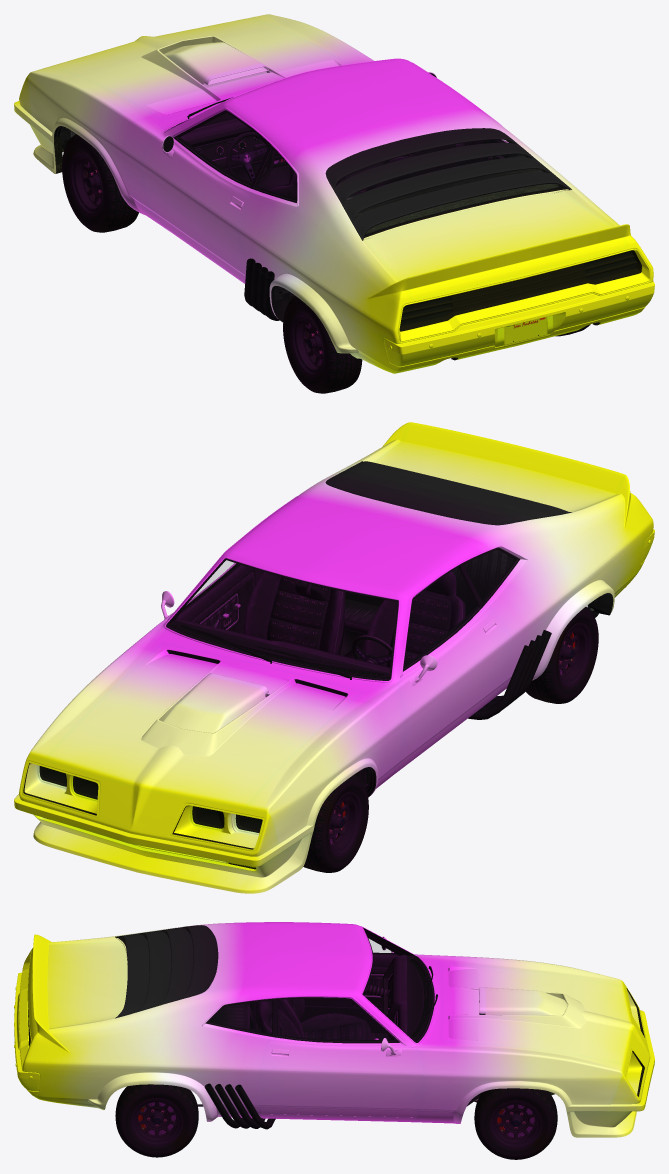
Rendered from imperator.glb.
The picture shows the model from 3 angles, top to bottom: view 1: azimuth 30°, elevation 25°; view 2: azimuth 150°, elevation 25°; view 3: azimuth 270°, elevation 25°; orthographic projection. The views are drawn at different scales.
Visible parts, largest first — view 1: bodyshell, boot, misc_b, bonnet, door_dside_f, chassis, bumper_r, wheel_lf, wheel_lr, window_lf, misc_l, windscreen_r (+6 smaller); view 2: bodyshell, bonnet, chassis, bumper_f, boot, door_dside_f, misc_b, misc_j, wheel_lf, wheel_lr, window_lf, misc_l (+4 smaller); view 3: bodyshell, bonnet, door_pside_f, chassis, boot, misc_b, wheel_rr, wheel_rf, window_rf, bumper_f, misc_l, door_dside_f (+4 smaller).
Boxes of the visible parts, x1,y1,x2,y2 form: bodyshell: (19,14,653,373); boot: (366,192,626,299); misc_b: (325,128,571,240); bonnet: (50,18,348,119); door_dside_f: (140,135,251,282); chassis: (168,112,636,325); bumper_r: (384,281,654,366); wheel_lf: (62,134,138,232); wheel_lr: (283,296,362,393); window_lf: (178,113,268,184); misc_l: (163,42,268,87); windscreen_r: (337,140,563,235); bodyshell: (19,422,653,856); bonnet: (47,644,360,809); chassis: (23,549,517,849); bumper_f: (14,794,314,893); boot: (374,422,625,511); door_dside_f: (395,606,511,772); misc_b: (325,461,571,525); misc_j: (243,572,345,654); wheel_lf: (303,774,368,872); wheel_lr: (525,606,598,703); window_lf: (404,567,479,667); misc_l: (163,673,268,732); bodyshell: (19,922,650,1123); bonnet: (441,963,636,1066); door_pside_f: (259,1034,424,1117); chassis: (121,928,644,1117); boot: (28,934,127,1034); misc_b: (115,925,218,1018); wheel_rr: (115,1084,198,1157); wheel_rf: (474,1088,557,1159); window_rf: (277,999,395,1040); bumper_f: (565,1010,654,1137); misc_l: (479,987,567,1015); door_dside_f: (300,936,416,1027).
Bounding box in the file's own units: 2.1 × 1.36 × 4.94.
Materials: 21 (21 with a texture image).
